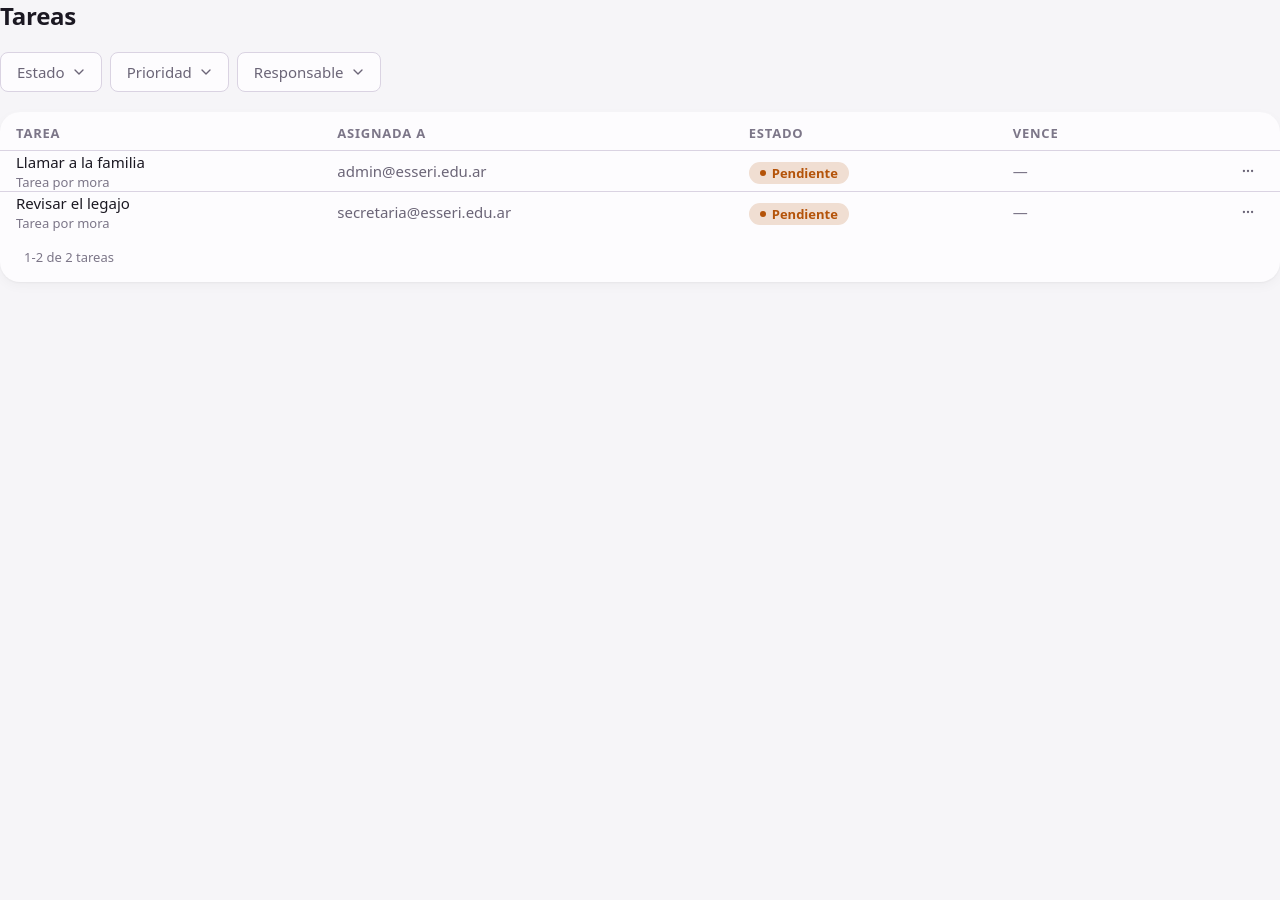
Test: TareasPage: responsable y reasignación › no se puede reasignar sin elegir a alguien
The width and height of the screenshot is (1280, 900).
Expected: the text "Revisar el legajo" is shown, [16,193,130,213]
Click the button named "Acciones para ". click: coordinates (1248, 212)
box: [1232,196,1264,228]
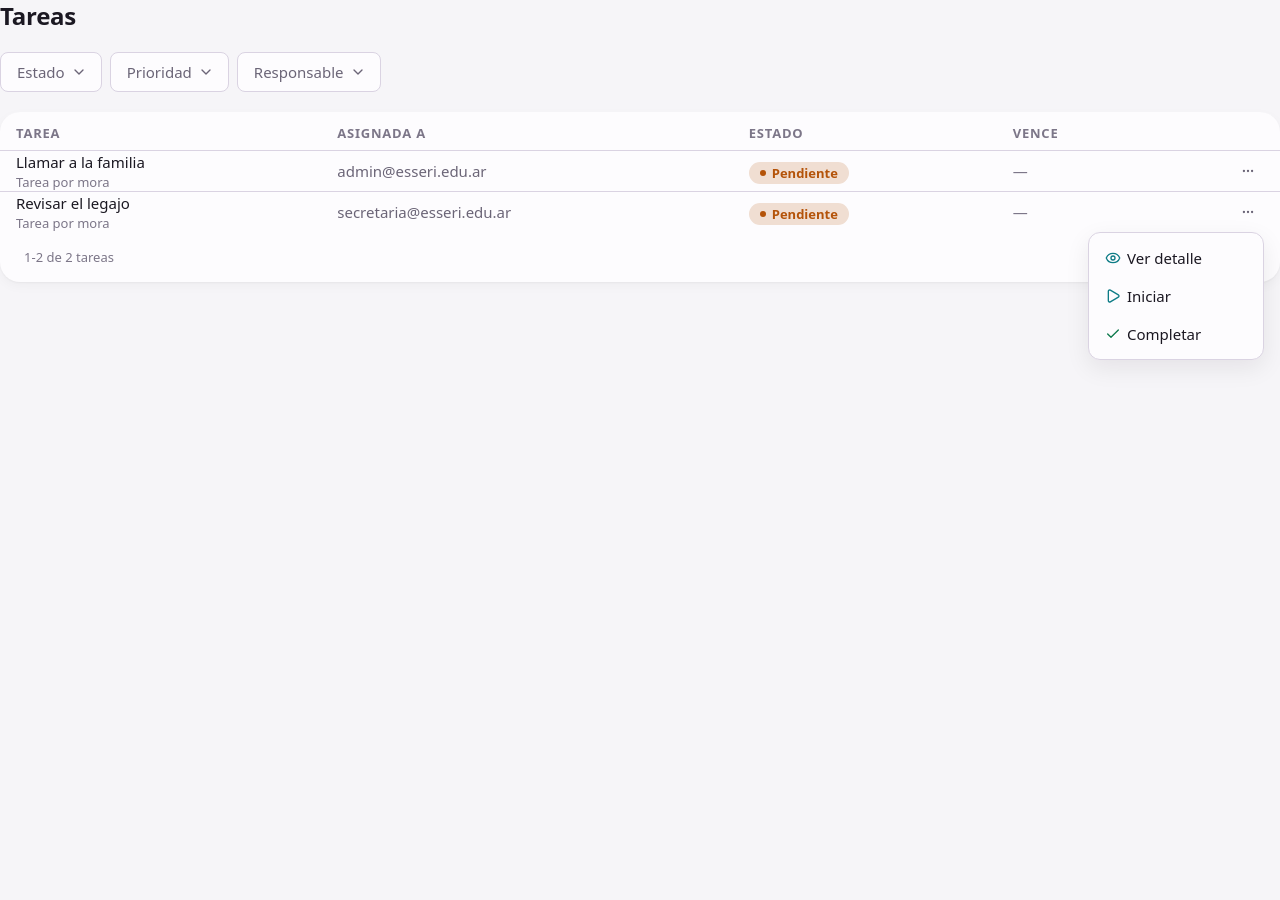
Click the menu item "Ver detalle". click: coordinates (1154, 258)
box: [1105,248,1202,268]
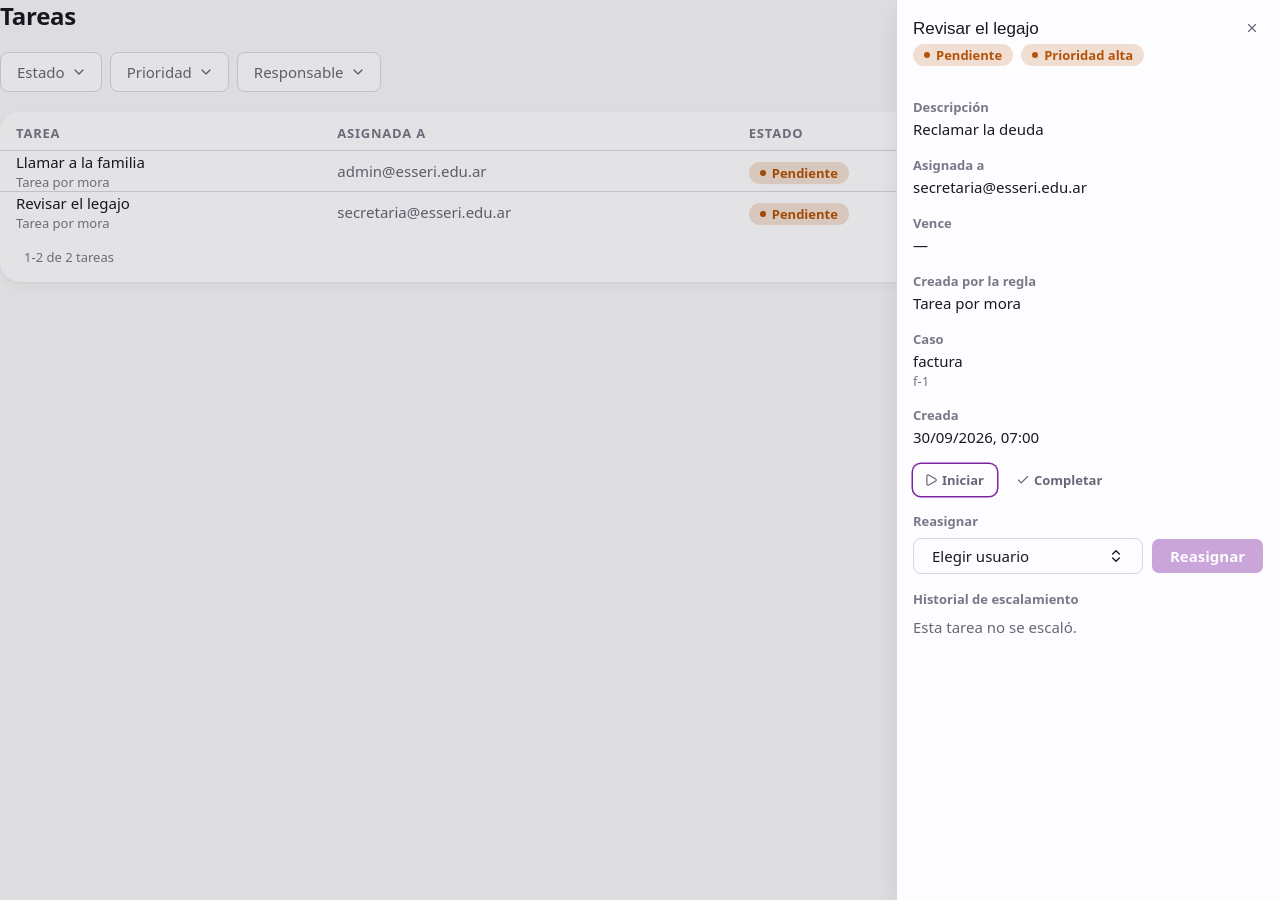
Expected: the button "Reasignar" is disabled, [1151,538,1264,574]
